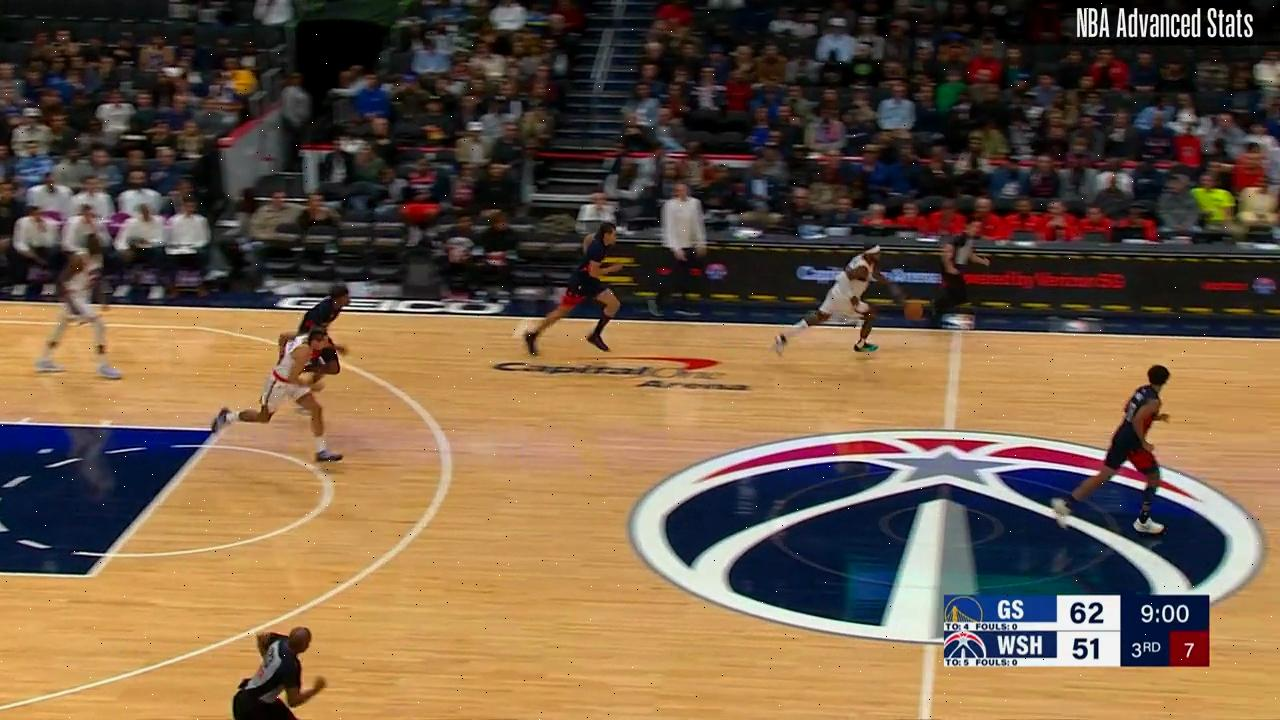basketball: (902, 301, 927, 324)
